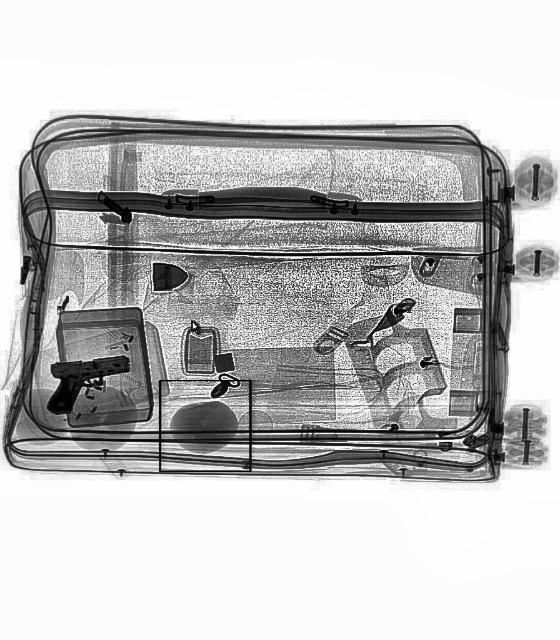Gun: (45, 354, 133, 412)
